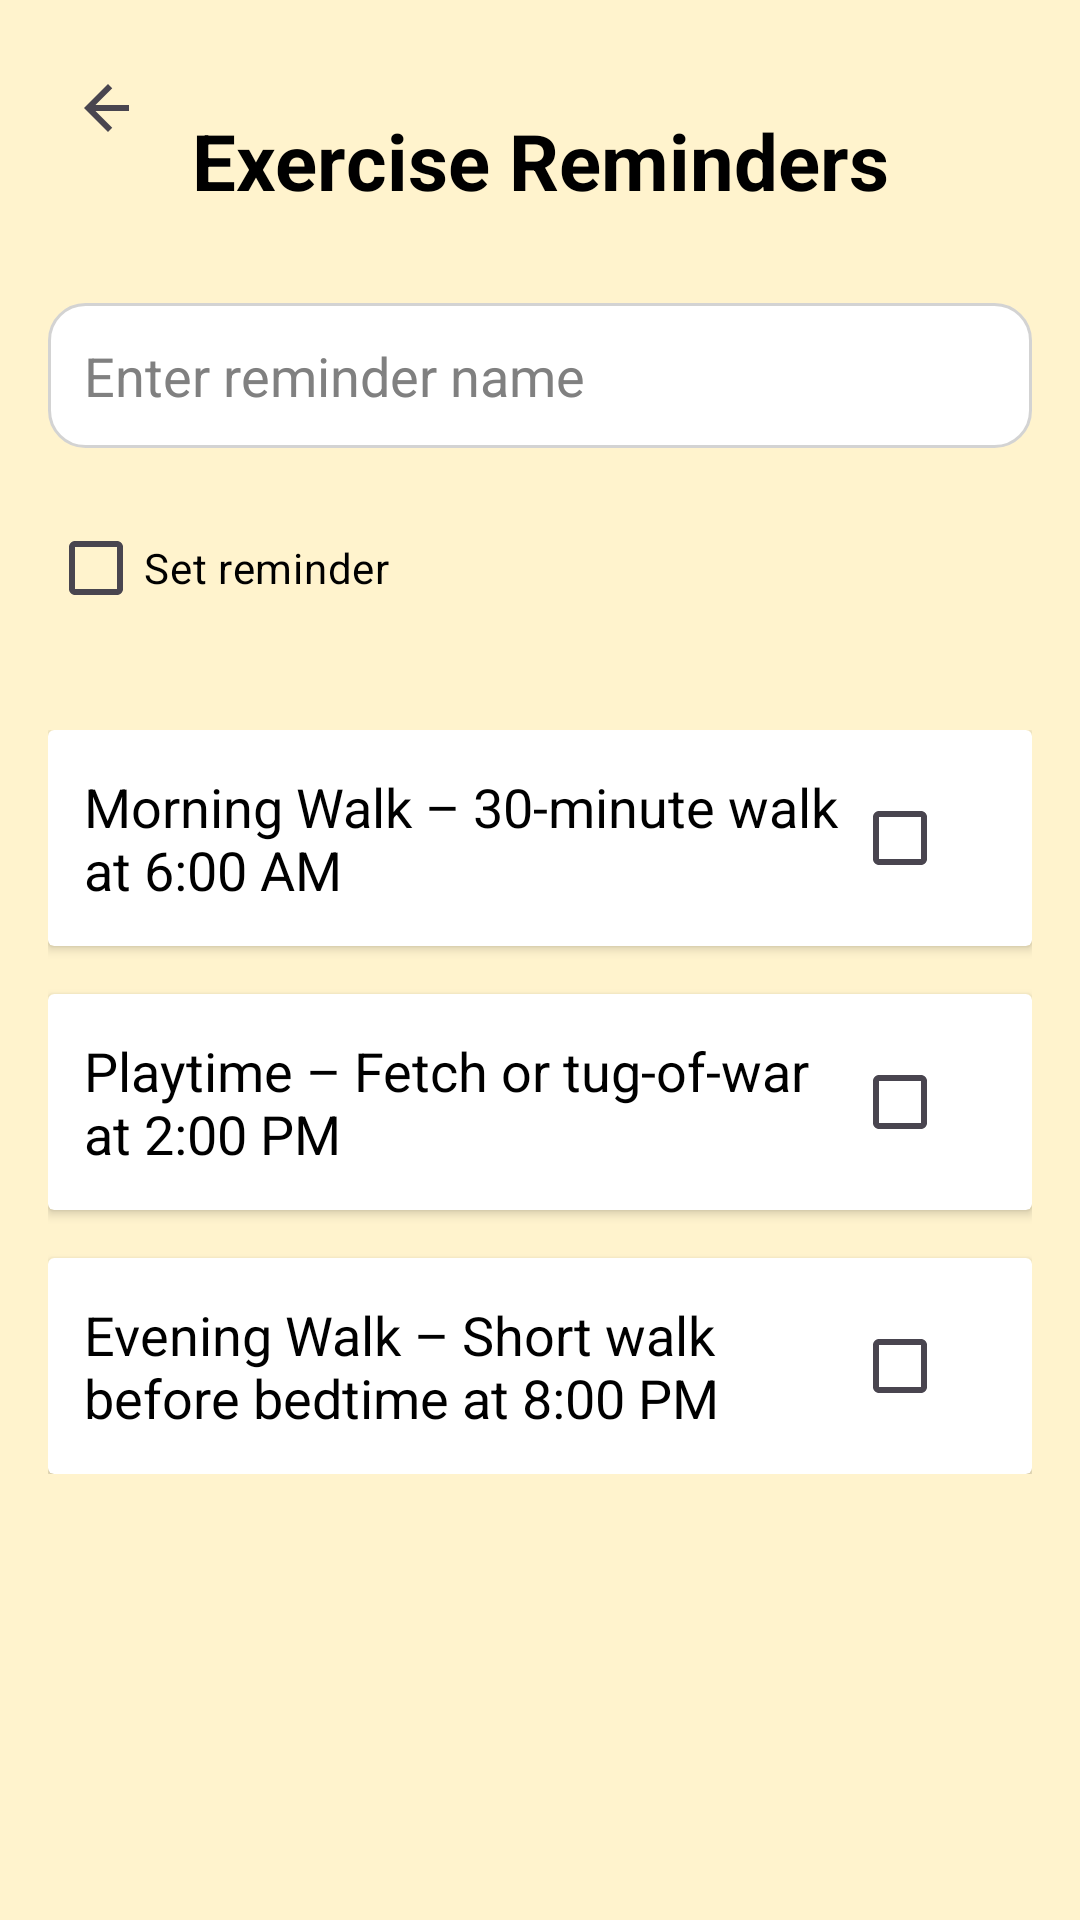

Icons on this 1080w x 1920h Android screen, each with the point to tap as (x=x, y=y):
Back: (x=106, y=108)
